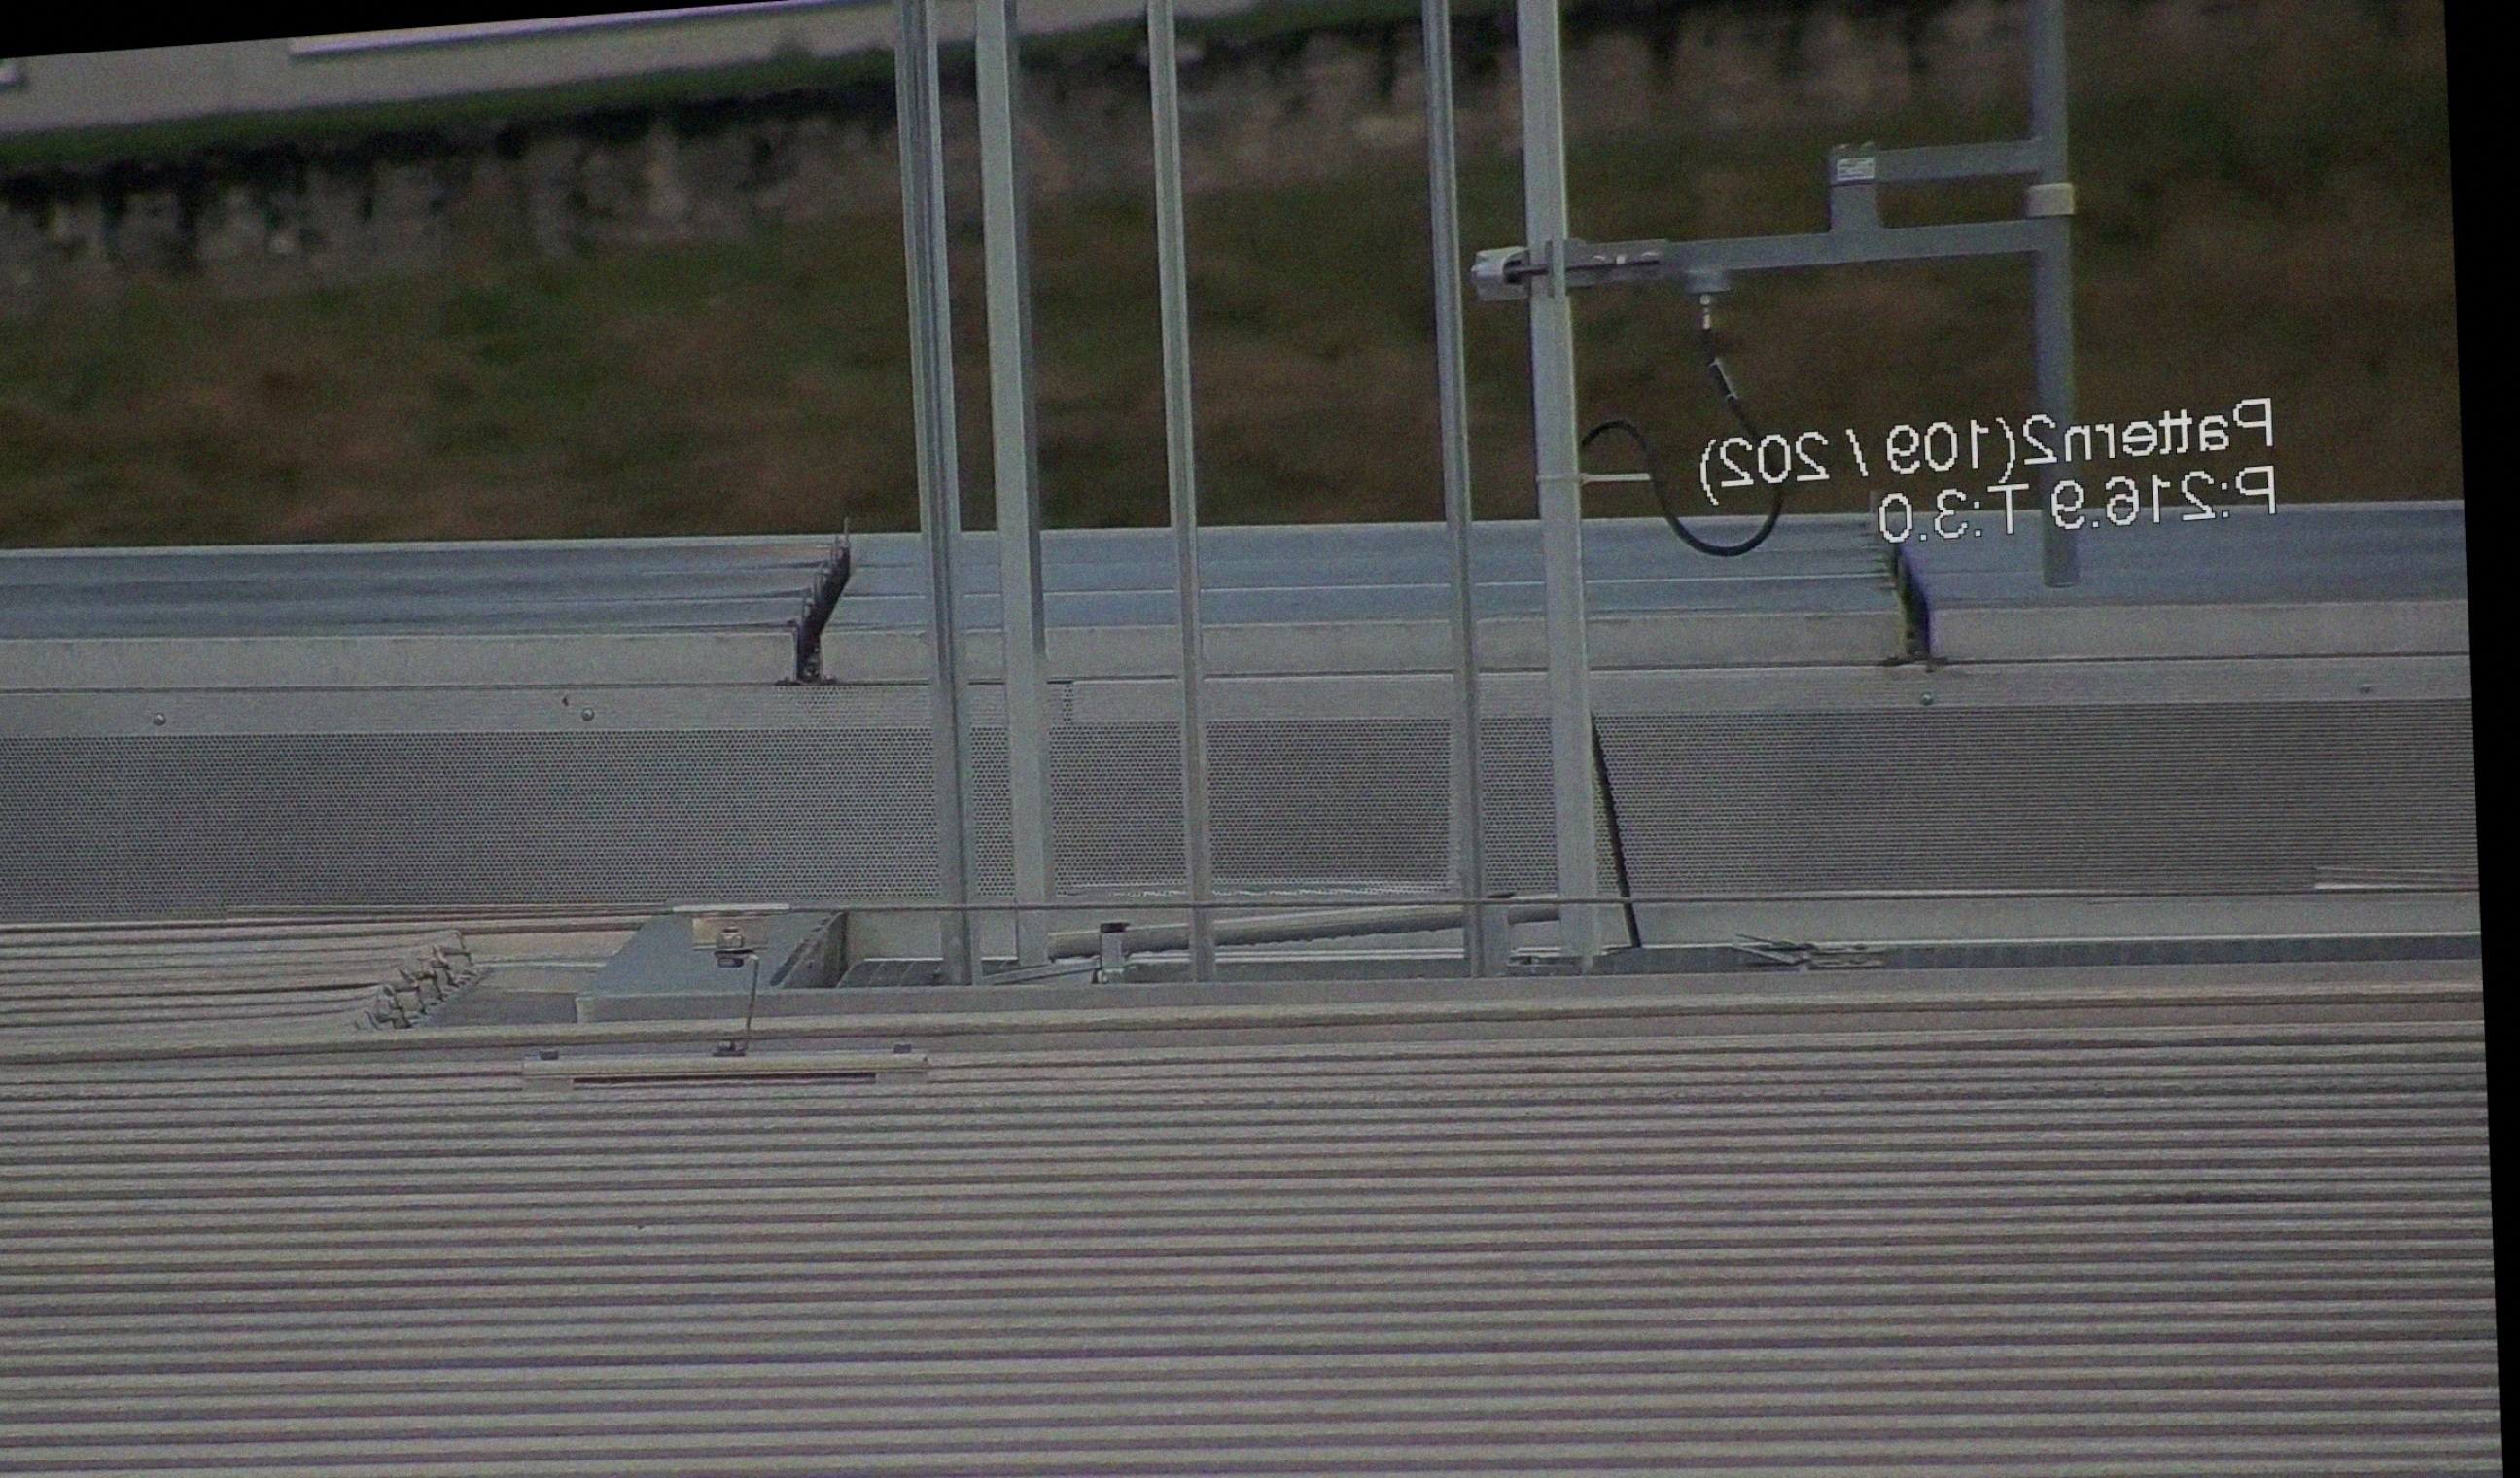Other: (758, 521, 881, 693)
